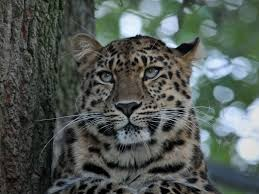amur_leopard: (57, 22, 222, 180)
